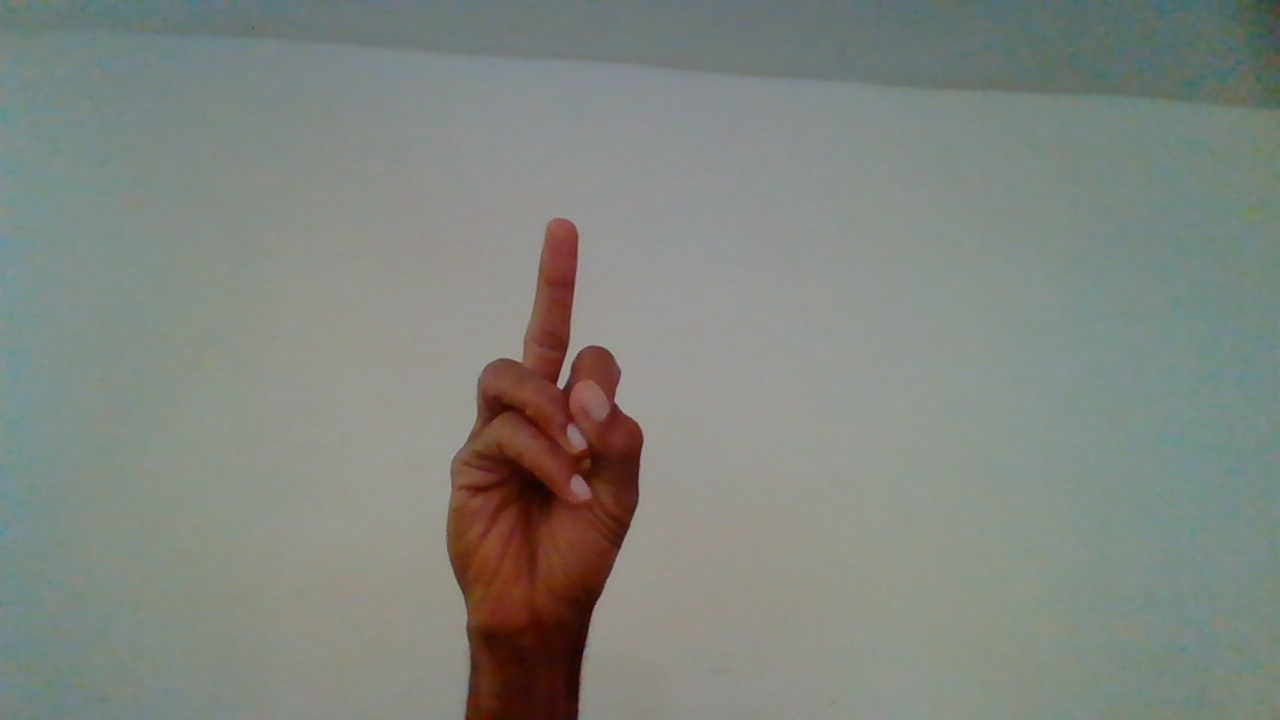he: (451, 226, 647, 718)
